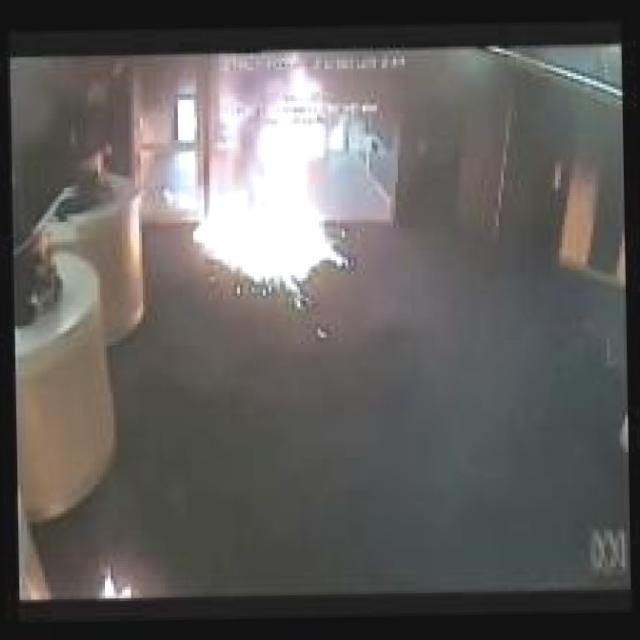fire: (180, 112, 407, 316)
